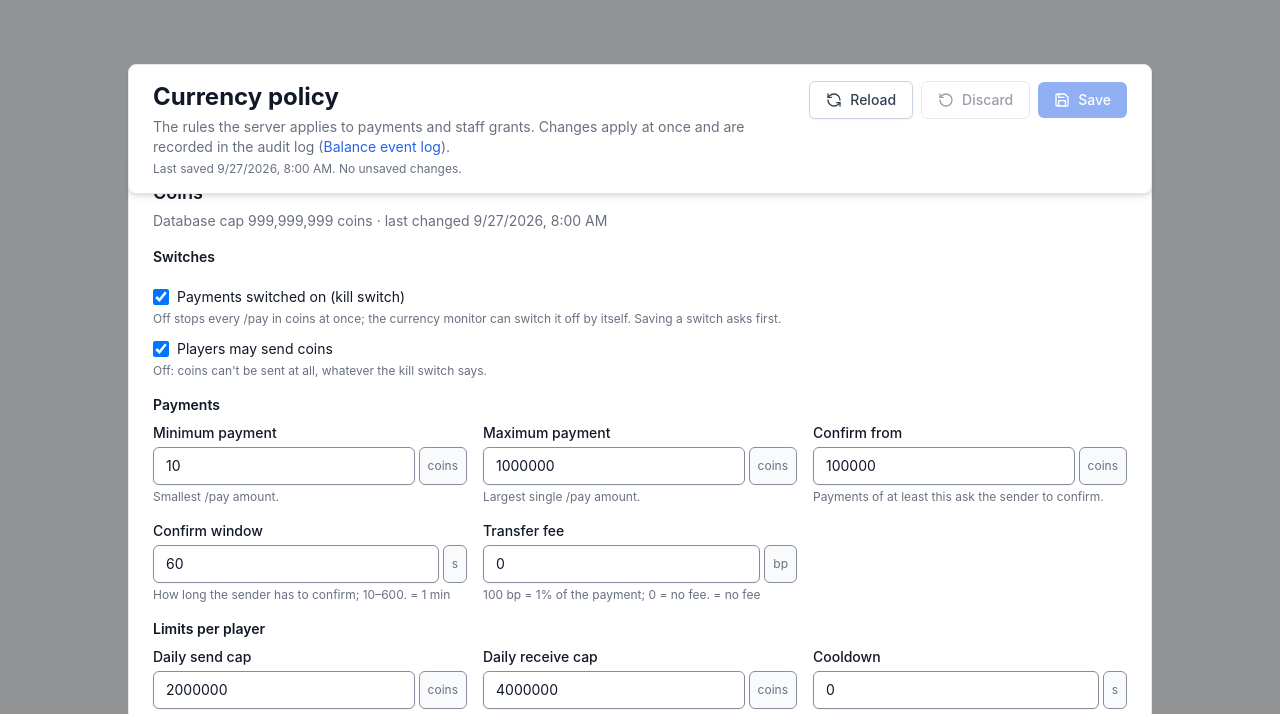
CurrencyPolicyPage › on 409 PolicyChanged tells staff to reload and review, and reloads the current policy
Replace the text in the field labelled "Maximum payment" with "500000". click: (614, 466)
box: [483,447,745,485]
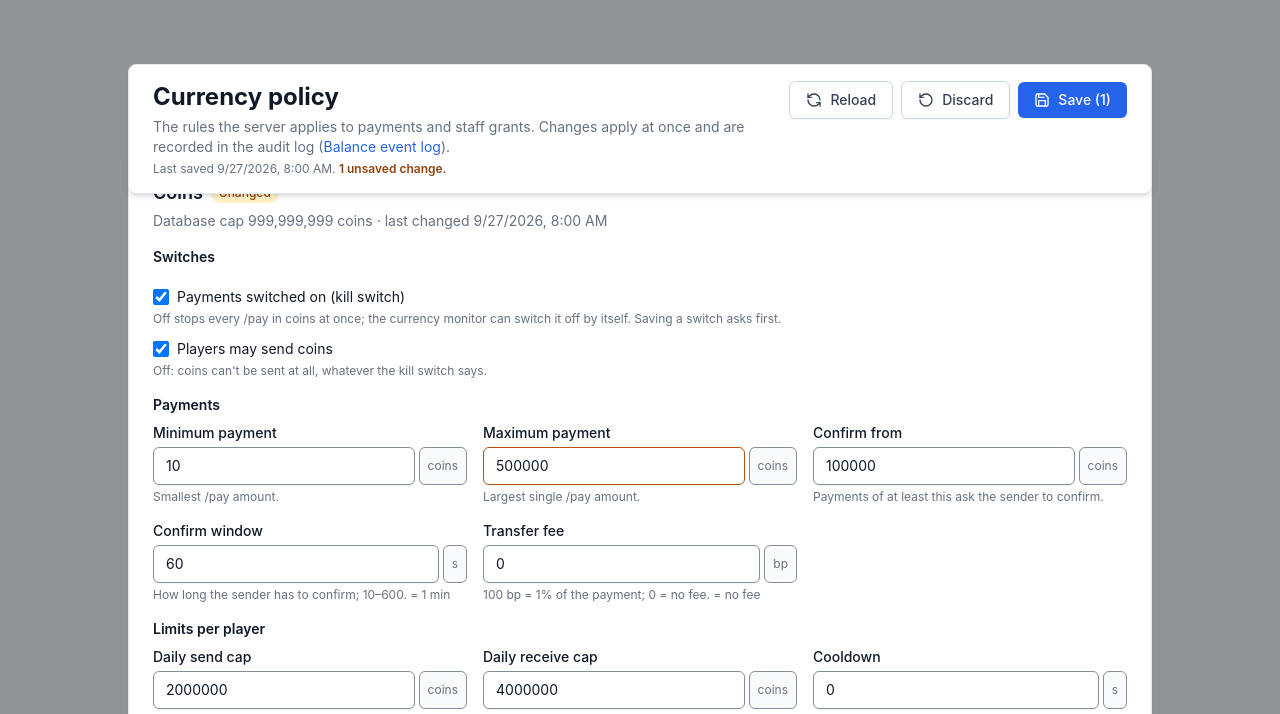
Click the button "Save (1)". click: (1073, 100)
box: [1018,82,1127,118]
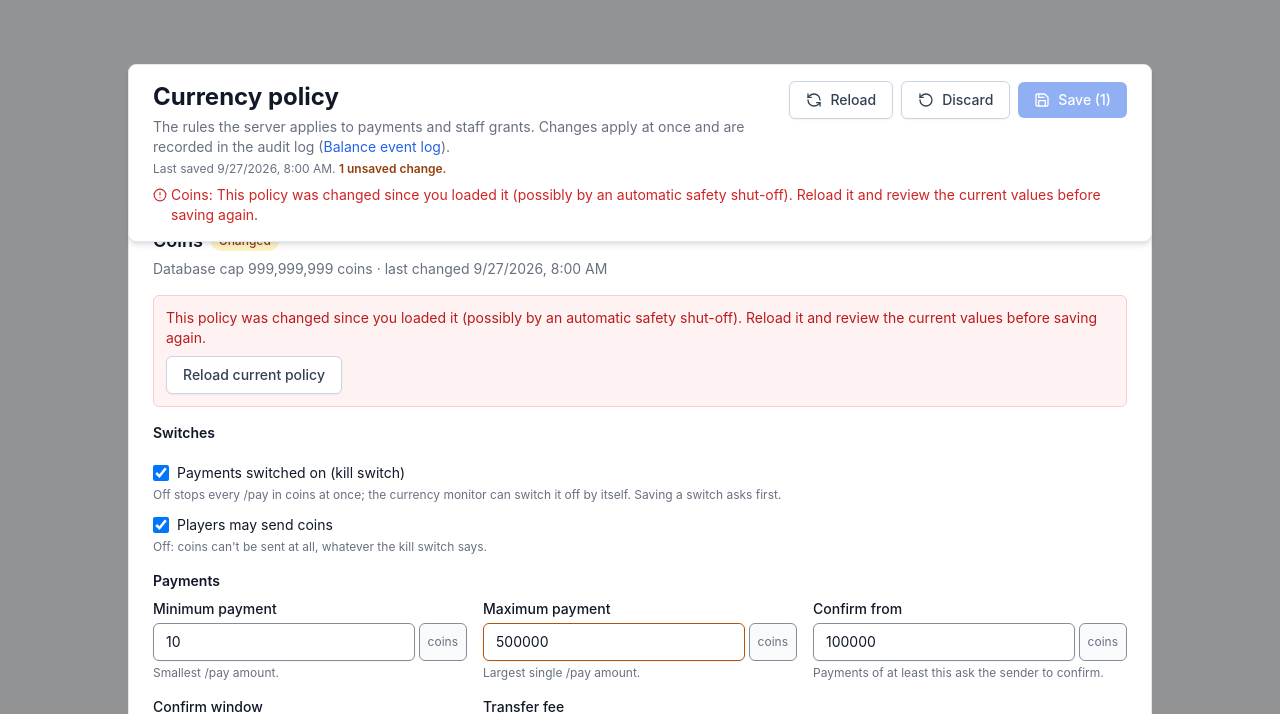
Expected: the element "Coins" shows "automatic safety shut-off", [166,309,1097,346]
Expected: the button "Save (1)" is disabled, [1018,82,1127,118]
Click the button "Reload current policy". click: (254, 375)
box: [166,356,342,394]
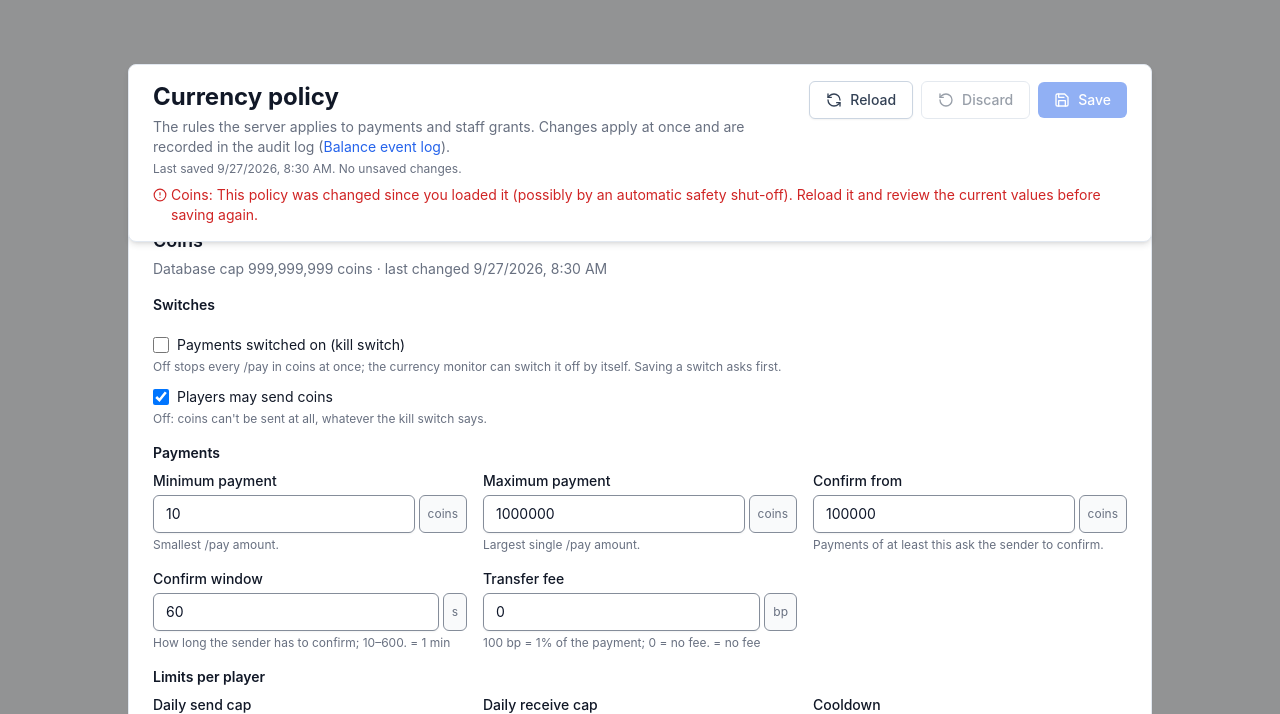
Expected: the field labelled "Maximum payment" holds "1000000", [483,495,745,533]
Expected: the checkbox labelled "Payments switched on (kill switch)" is not checked, [153,337,169,353]
Expected: the button "Reload current policy" is gone
